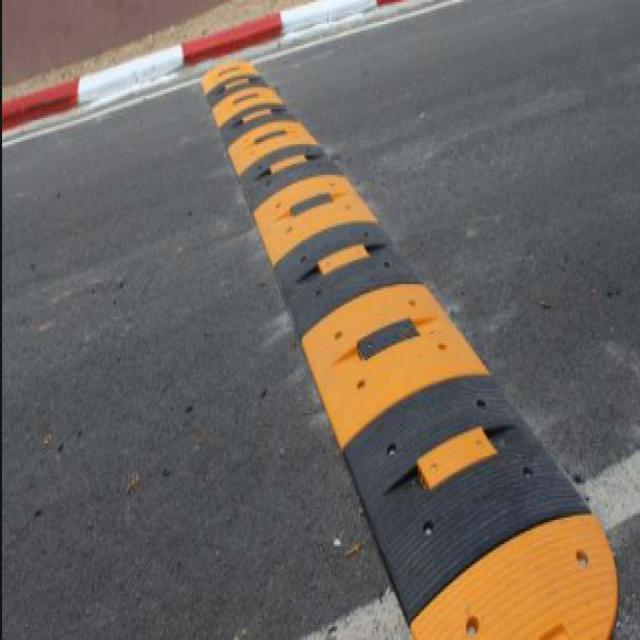speedbreaker: (198, 58, 622, 640)
